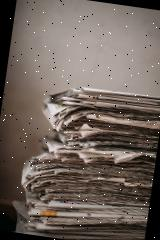paper: (11, 78, 160, 240)
